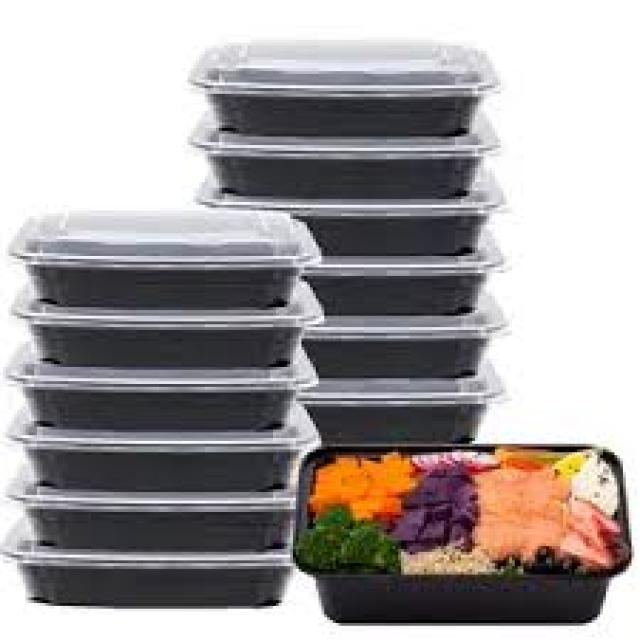disposable: (284, 424, 640, 640), (5, 196, 325, 322), (177, 27, 498, 152)
